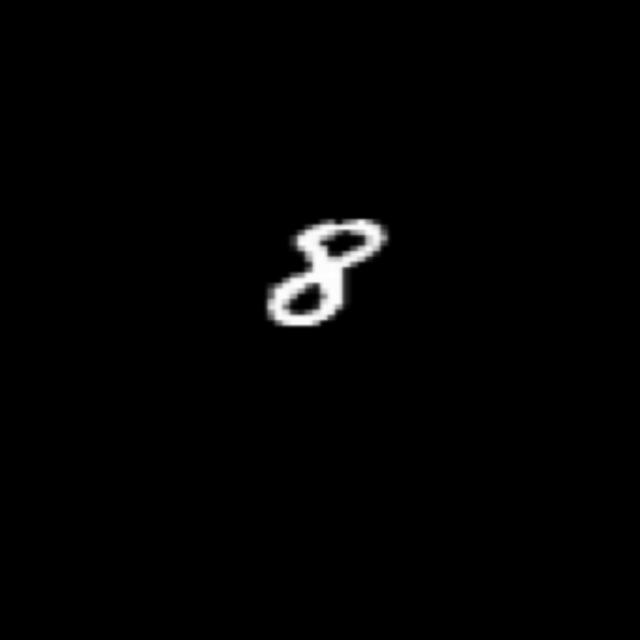eight -8-: (260, 216, 390, 336)
